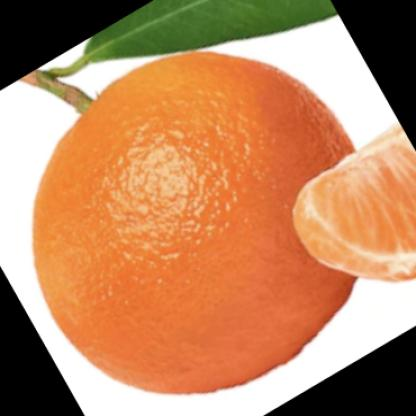fresh: (33, 49, 362, 397)
